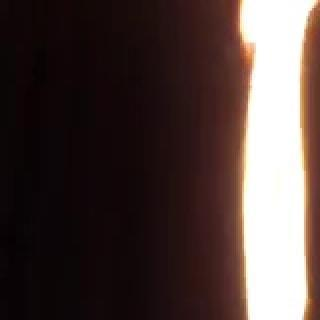fire: (214, 2, 320, 320)
